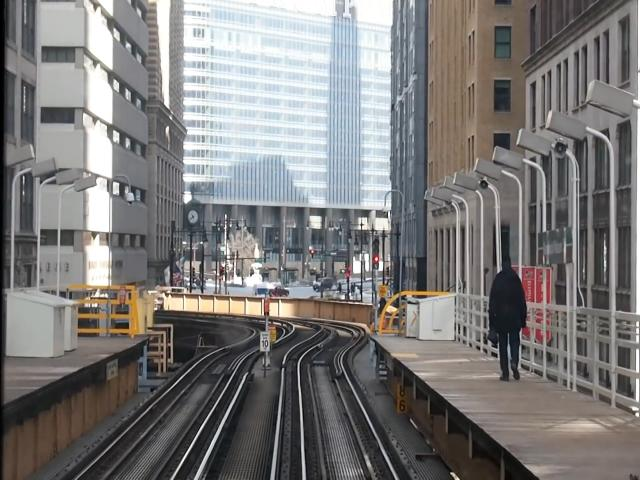signal light: (373, 238, 382, 274)
